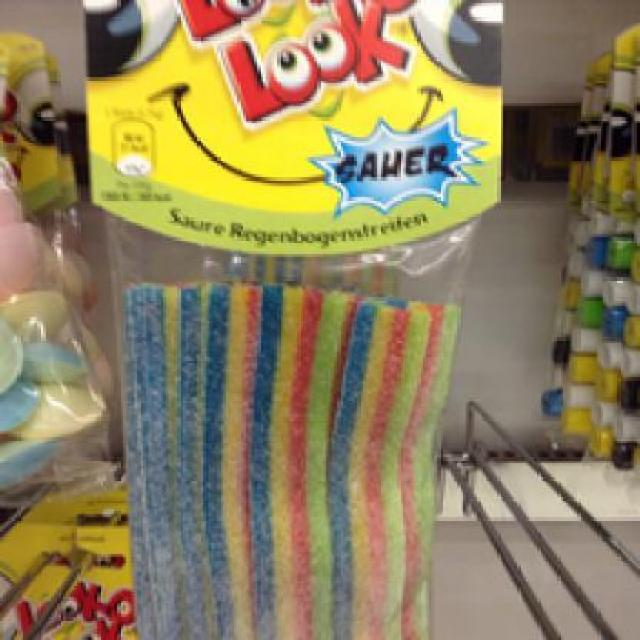Candy: (86, 2, 494, 638)
